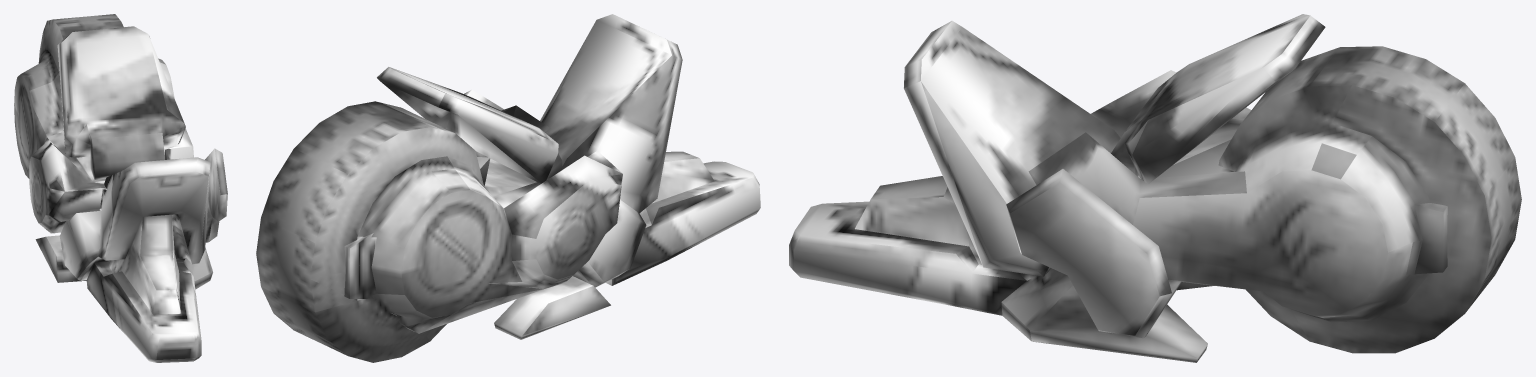
The model's file is r_foot.glb.
The picture shows the model from 3 angles, left to right: view 1: azimuth 30°, elevation 25°; view 2: azimuth 150°, elevation 25°; view 3: azimuth 270°, elevation 25°; orthographic projection. The views are drawn at different scales.
Visible parts, largest first — view 1: r_foot; view 2: r_foot; view 3: r_foot.
Boxes of the visible parts, box(x1,y1,x2,y2) form: r_foot: box(14, 14, 227, 362); r_foot: box(256, 14, 760, 362); r_foot: box(789, 14, 1521, 362).
Bounding box in the file's own units: 0.6048 × 0.5744 × 1.3.
3 materials, 3 textured.
